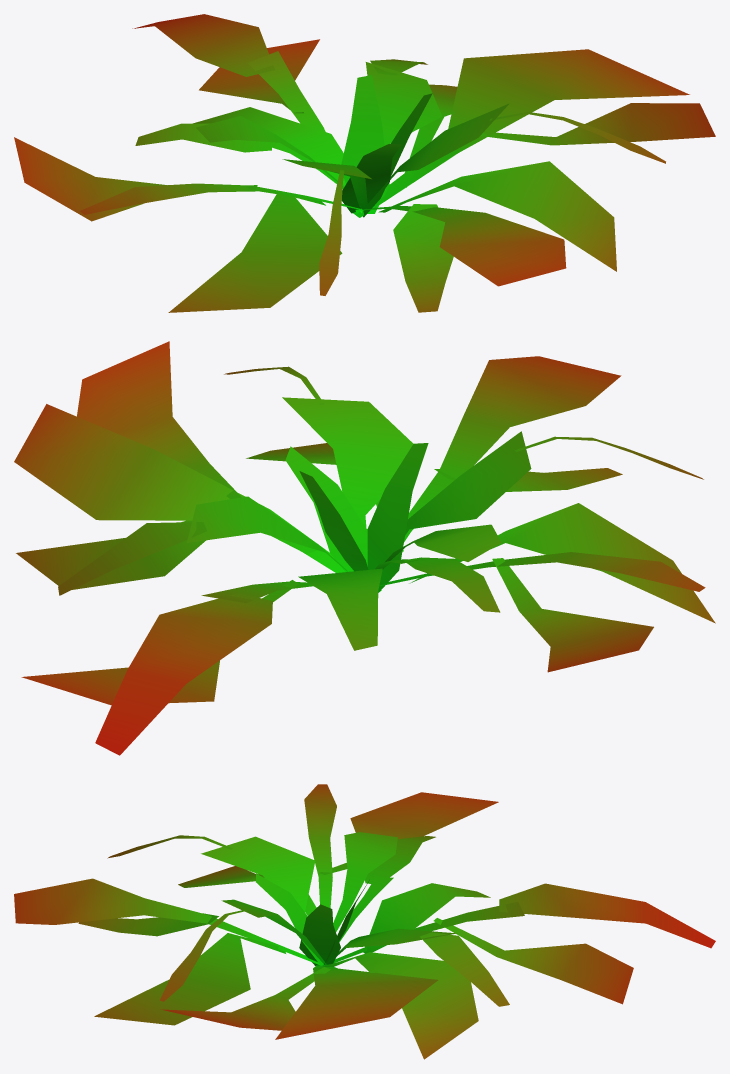
File: Var5_LOD2.fbx
3 renders of one model, top to bottom at view 1: azimuth 30°, elevation 25°; view 2: azimuth 150°, elevation 25°; view 3: azimuth 270°, elevation 25°, orthographic. The views are drawn at different scales.
Parts seen in each view (by area): view 1: _0687_Var5_LOD2; view 2: _0687_Var5_LOD2; view 3: _0687_Var5_LOD2.
Boxes of the visible parts, x1,y1,x2,y2 form: _0687_Var5_LOD2: (14,14,715,312); _0687_Var5_LOD2: (14,341,715,755); _0687_Var5_LOD2: (14,784,715,1059).
Size of the model in its own units: 54.37 by 10.46 by 63.8.
